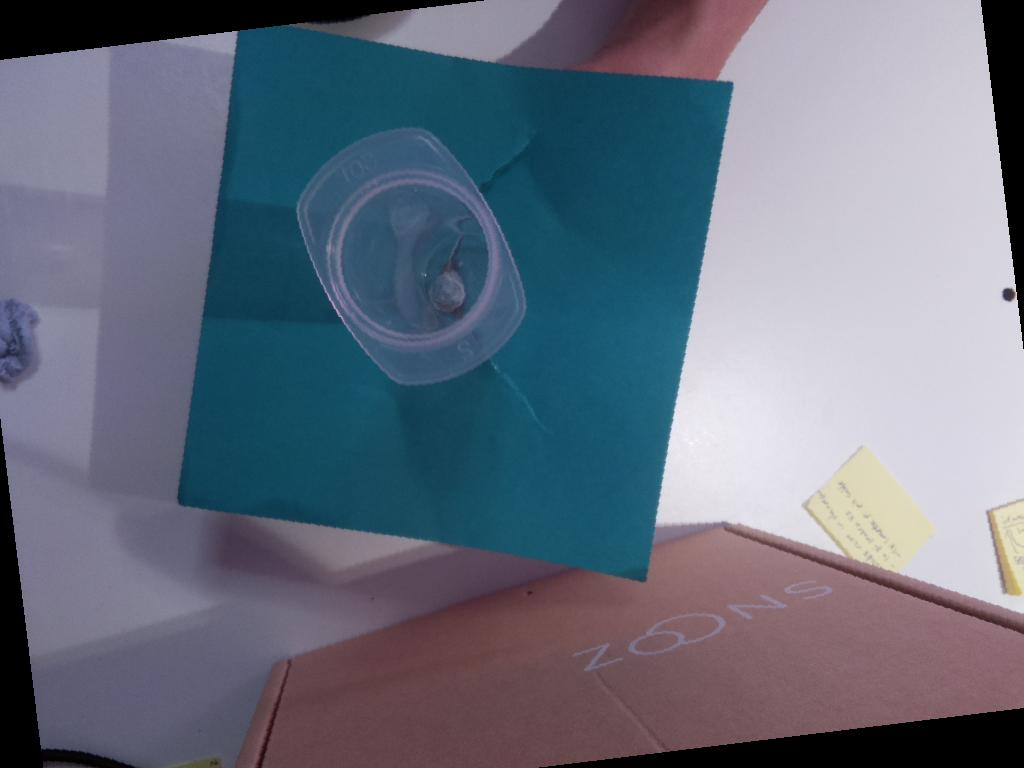clean: (296, 127, 527, 386)
